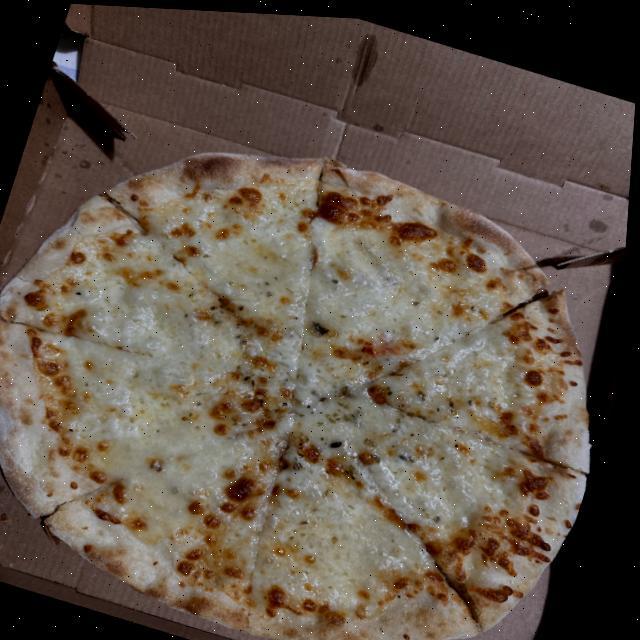pizza: (0, 69, 636, 640)
